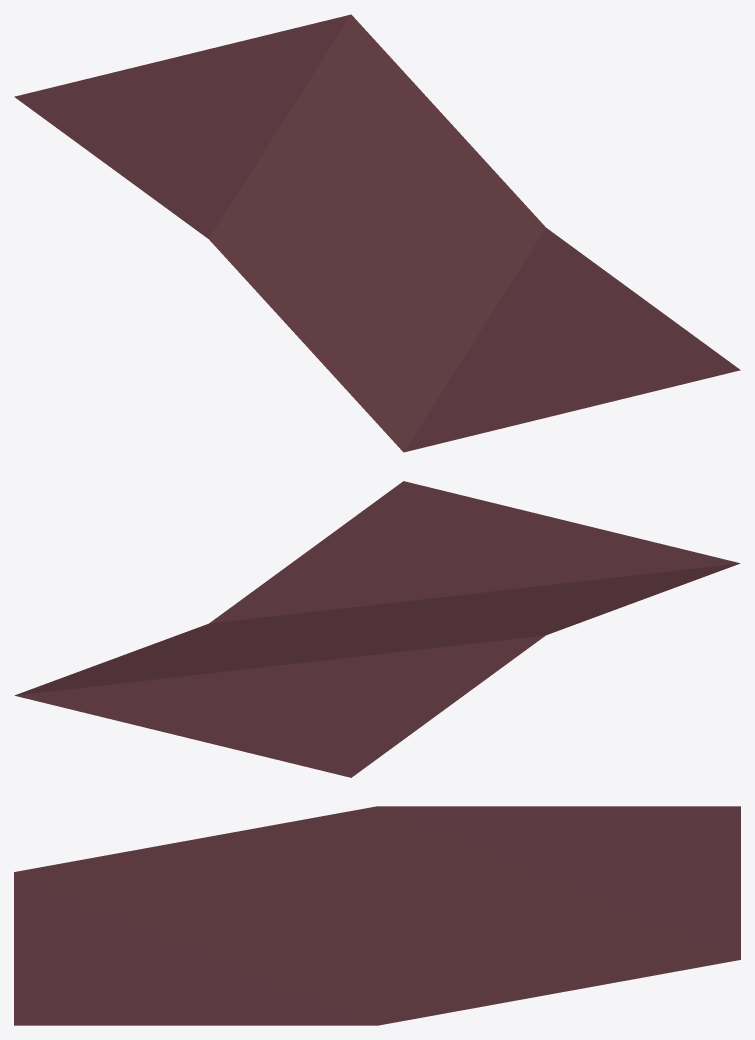
File: tiles-nb-tile-hill-curve-nb.glb
3 renders of one model, top to bottom at view 1: azimuth 30°, elevation 25°; view 2: azimuth 150°, elevation 25°; view 3: azimuth 270°, elevation 25°, orthographic. The views are drawn at different scales.
Parts seen in each view (by area): view 1: tile-hill-curve-nb; view 2: tile-hill-curve-nb; view 3: tile-hill-curve-nb.
Boxes of the visible parts, x1=… form: tile-hill-curve-nb: x1=14, y1=14, x2=740, y2=452; tile-hill-curve-nb: x1=14, y1=481, x2=740, y2=777; tile-hill-curve-nb: x1=14, y1=806, x2=740, y2=1025.
Size of the model in its own units: 30 by 6 by 60.
